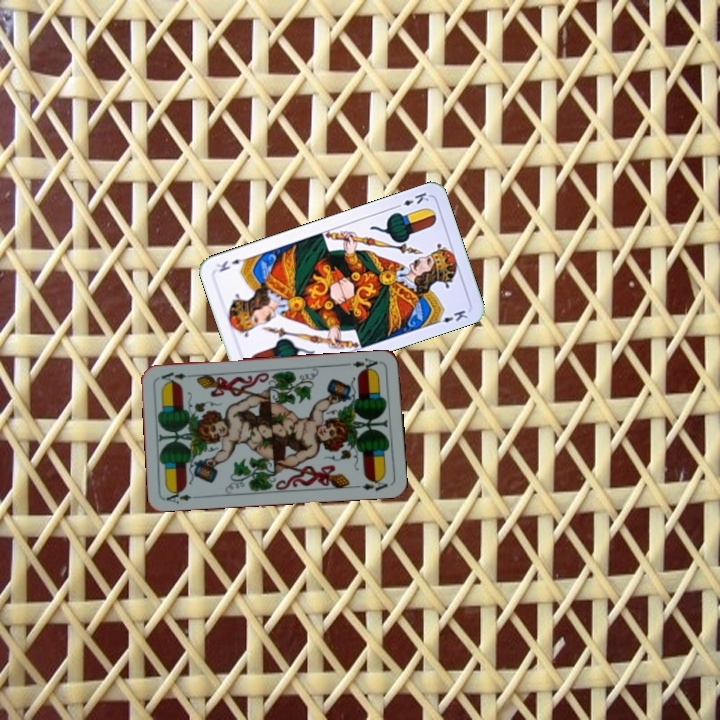EA: (162, 486, 203, 506), (343, 354, 380, 374)
EK: (391, 188, 431, 211)
